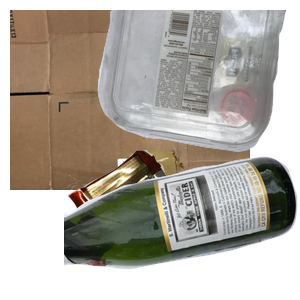cardboard: (10, 10, 250, 190)
glass: (64, 154, 300, 300)
plastic: (95, 10, 300, 154)
trash: (65, 148, 258, 300)
